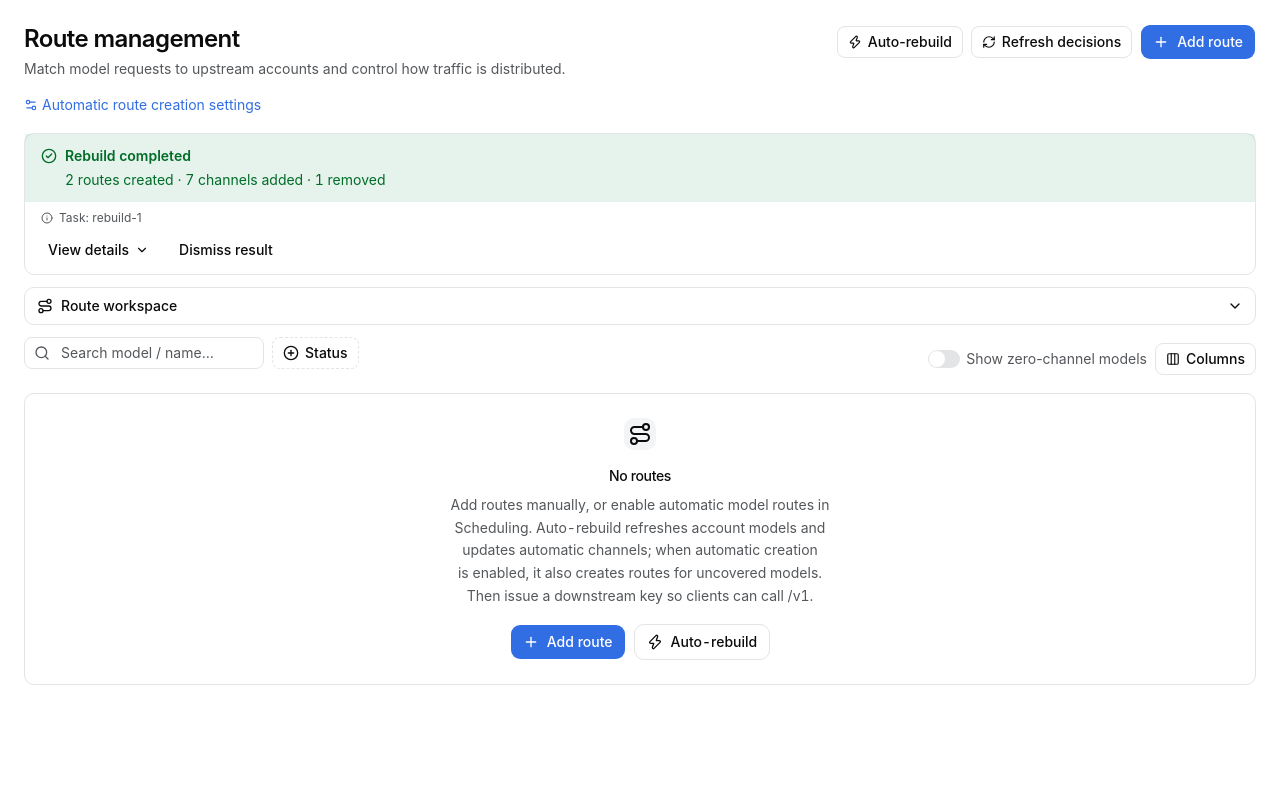
Test: RoutesPage background rebuild › dismisses a verified terminal result and clears its reload reference
The image size is (1280, 800).
Check: the heading "Route management" is shown, box [24,24,240,53]
Check: the heading "Rebuild completed" is shown, box [65,147,191,164]
Click the button "Dismiss result" at {"x": 226, "y": 250}, box [168,234,284,266]
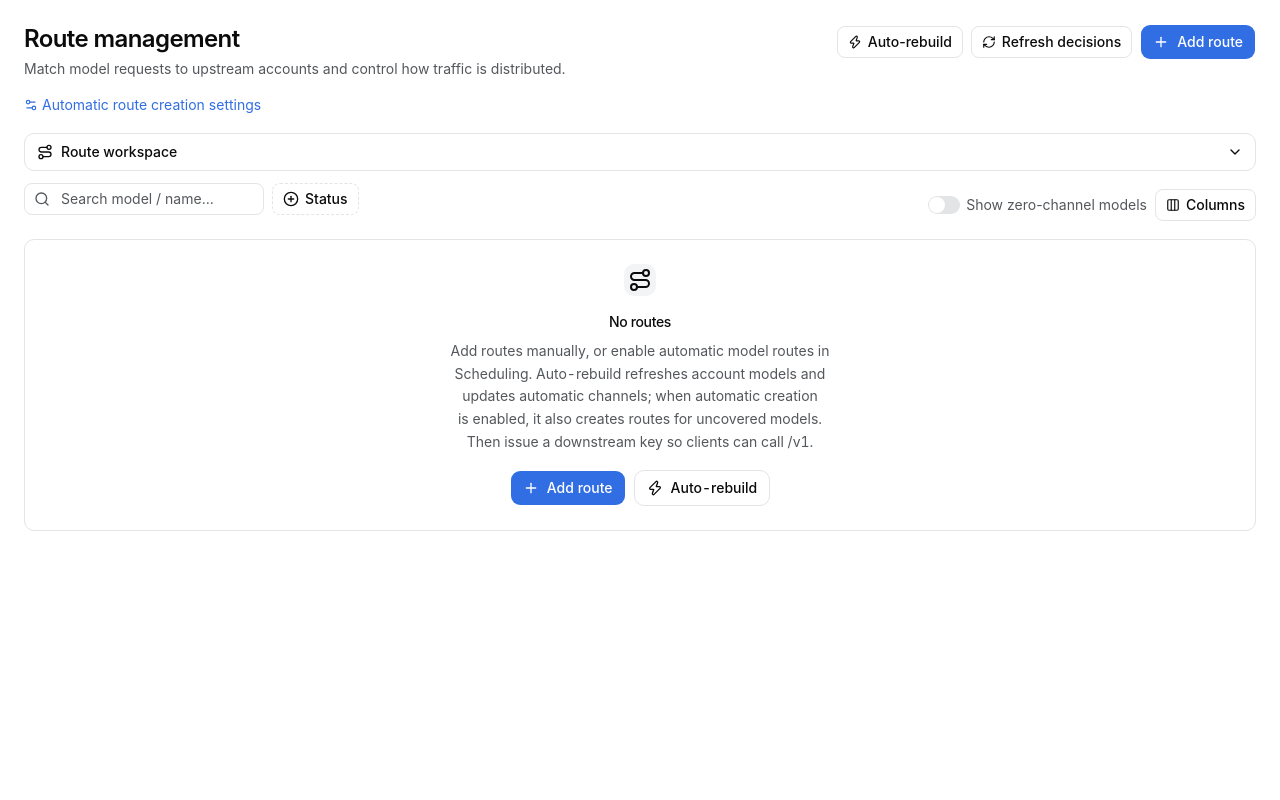
Check: the heading "Rebuild completed" is gone
